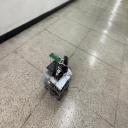cart: (43, 63, 72, 101)
